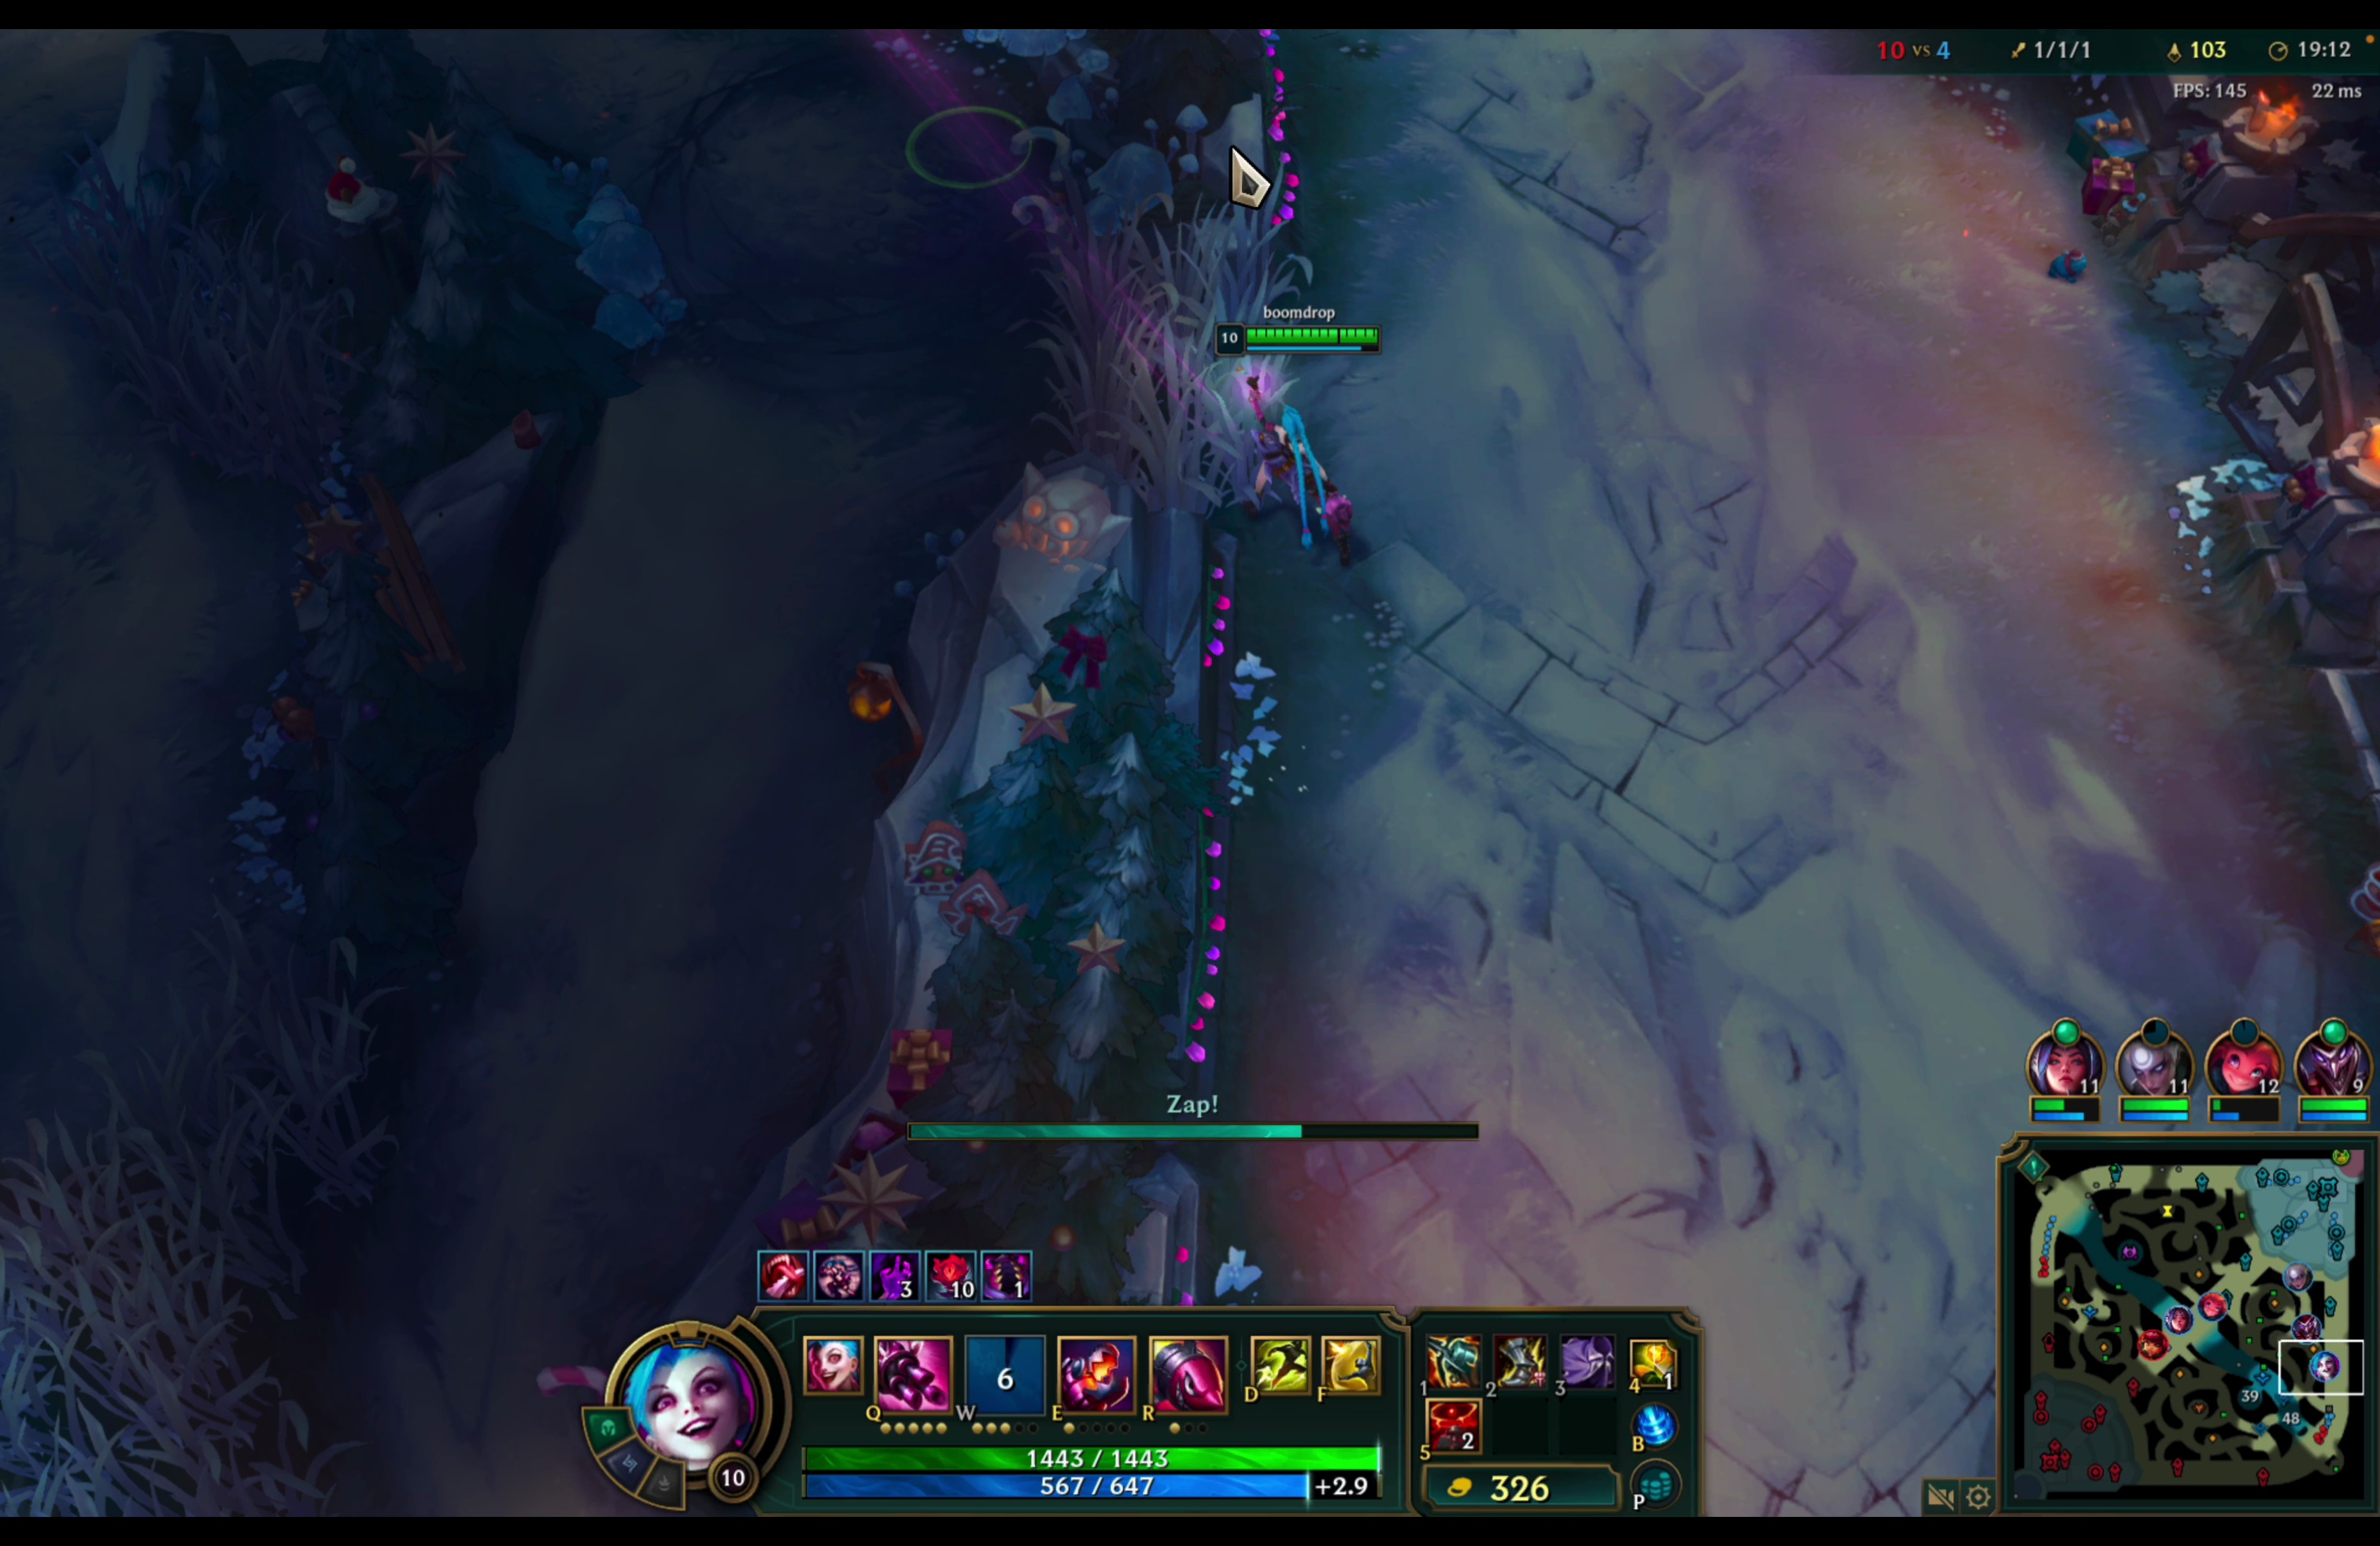JINX_W_PROJECTILE: (1199, 298, 1405, 573)
